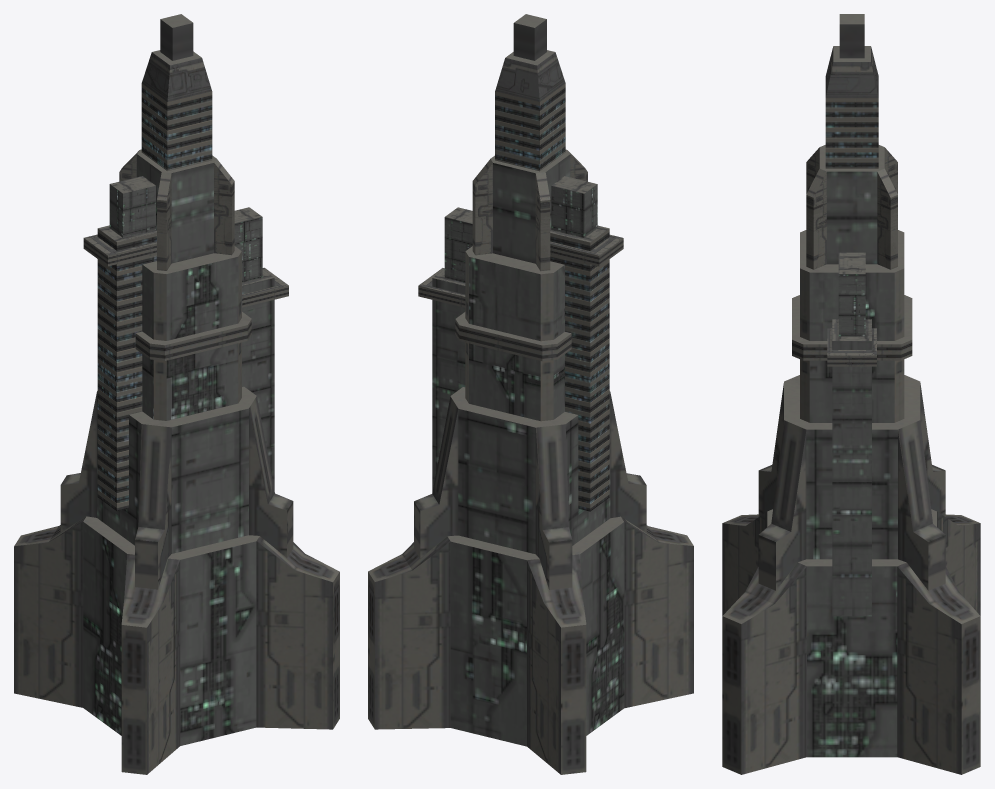
The model's file is Skyscraper_distance_6.gltf.
3 views of the same model, side by side, from view 1: azimuth 30°, elevation 25°; view 2: azimuth 150°, elevation 25°; view 3: azimuth 270°, elevation 25° (orthographic). The views are drawn at different scales.
Visible parts, largest first — view 1: Skyscraper_distance_6; view 2: Skyscraper_distance_6; view 3: Skyscraper_distance_6.
Part boxes in pixels (<box>): Skyscraper_distance_6: <box>14,14,339,774</box>; Skyscraper_distance_6: <box>368,14,693,774</box>; Skyscraper_distance_6: <box>722,14,980,774</box>.
Bounding box in the file's own units: 49.71 × 149 × 49.71.
1 material, 1 textured.
